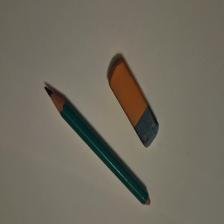eraser: (109, 60, 160, 150)
pencil: (46, 87, 152, 207)
